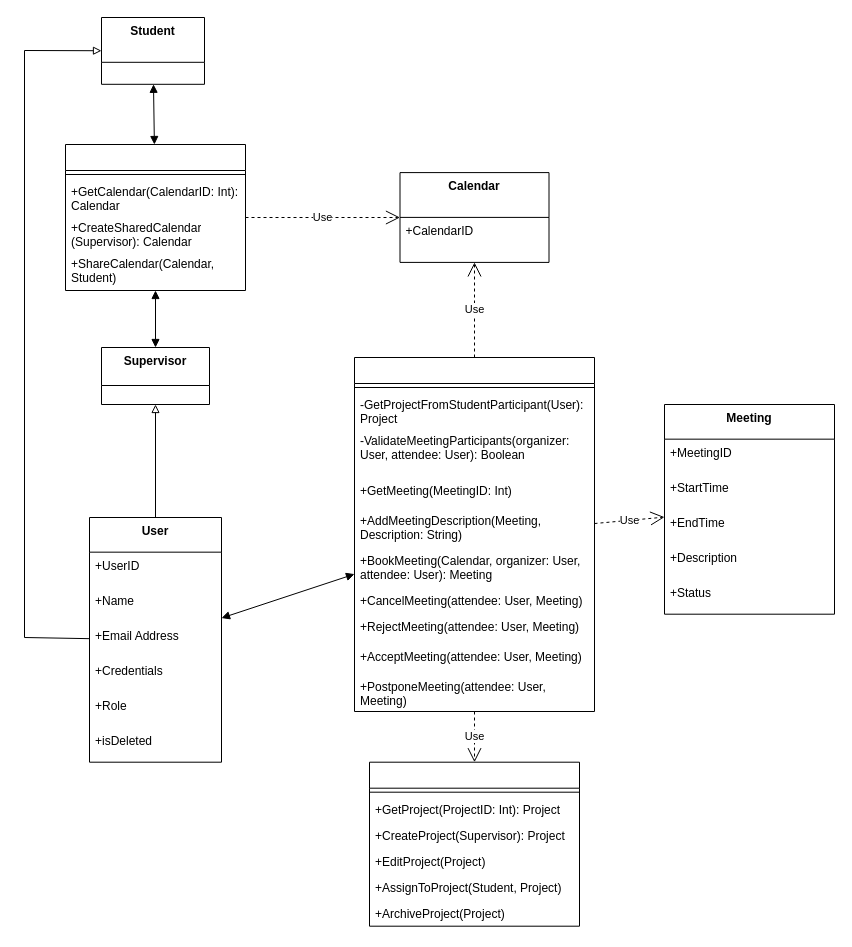
This 852x947 diagram has some shape labels left out. The shapes that lost their labels are listed below. From the top down, each one's box as (x1, y1, x2, y2) in pixels, then its label:
(64, 144, 246, 290): CalendarService
(354, 356, 594, 712): MeetingService
(368, 761, 580, 926): ProjectService
